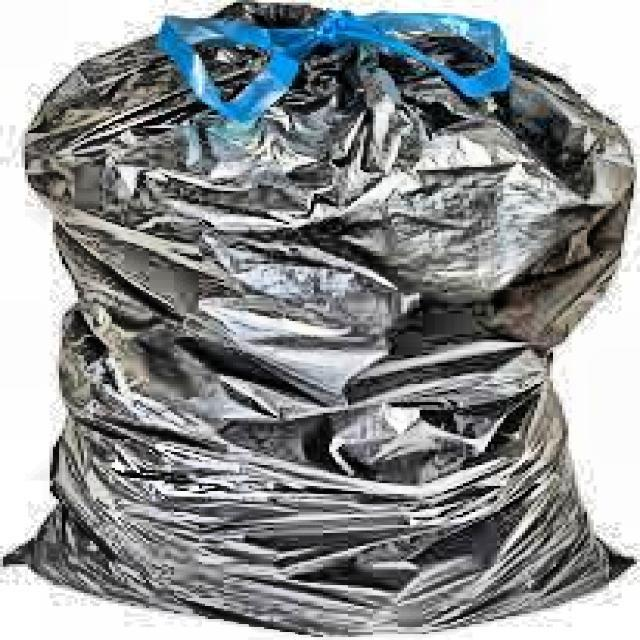Trashbag: (10, 4, 638, 625)
